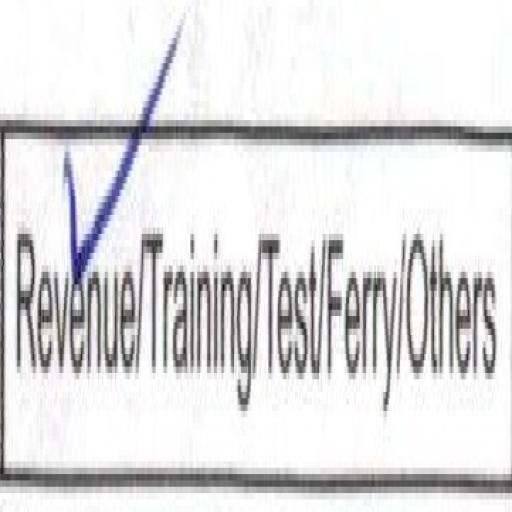check: (5, 81, 144, 512)
